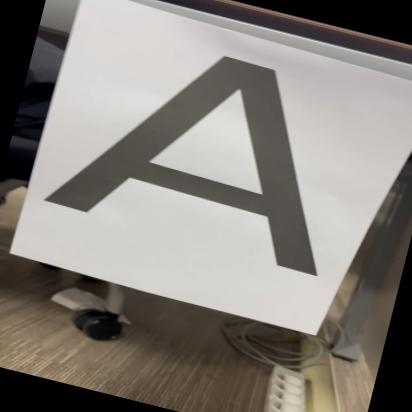seat: (37, 13, 367, 277)
